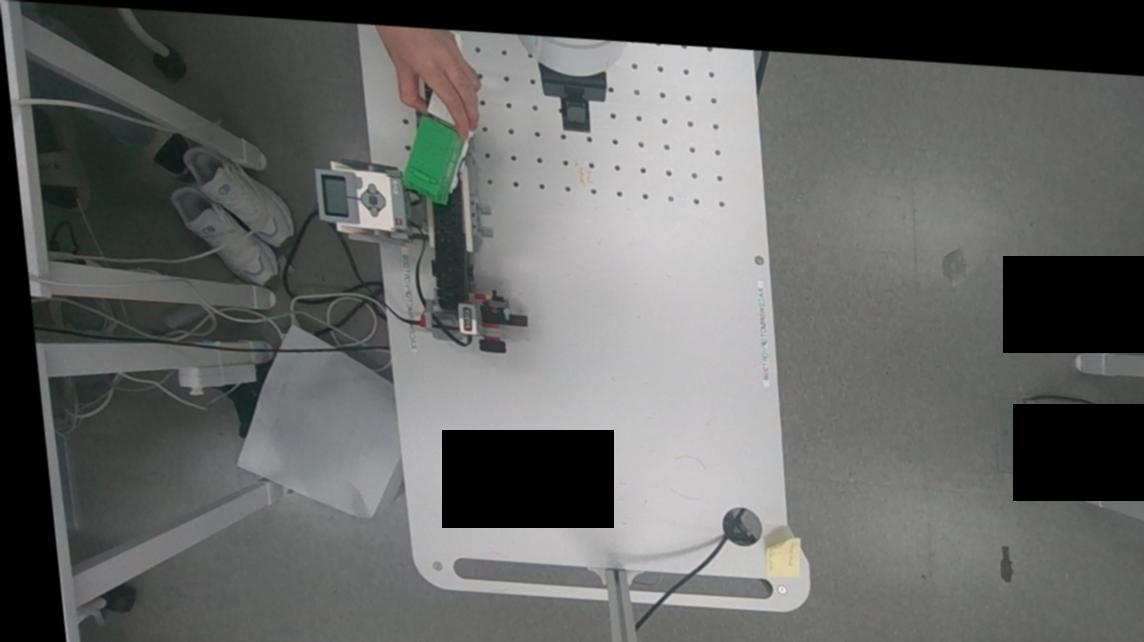truck: (383, 75, 499, 216)
